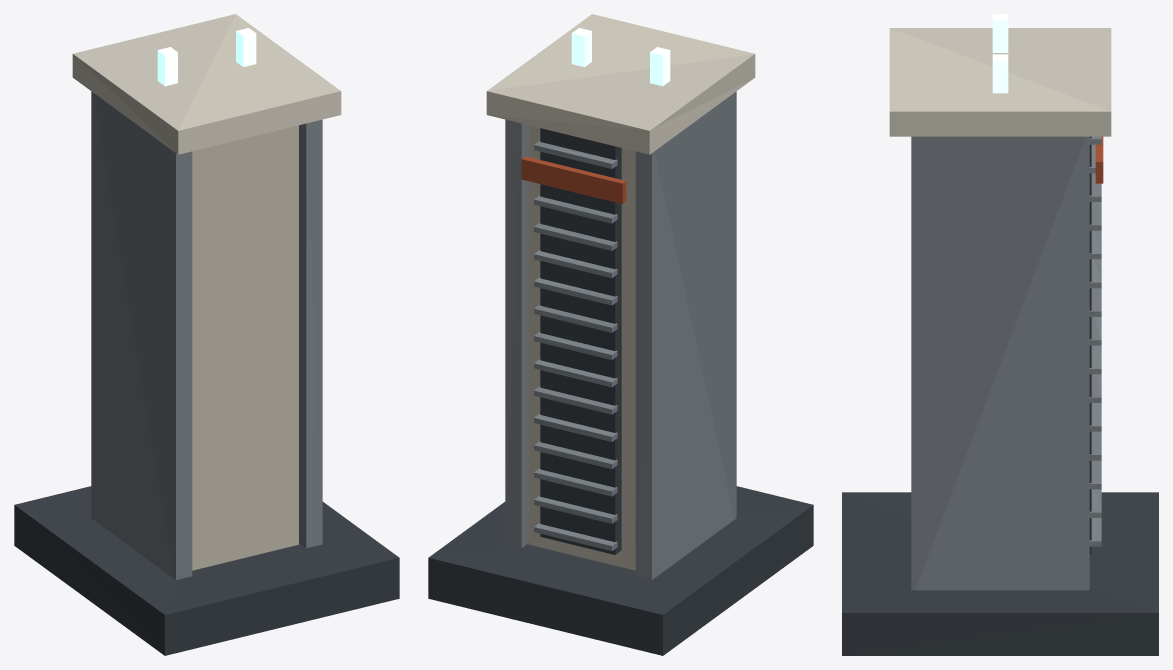
File: receiving-tower.glb
The picture shows the model from 3 angles, left to right: view 1: azimuth 30°, elevation 25°; view 2: azimuth 150°, elevation 25°; view 3: azimuth 270°, elevation 25°; orthographic projection. The views are drawn at different scales.
Parts seen in each view (by area): view 1: receiving-tower__metal, receiving-tower__ceramic, receiving-tower__graphite, receiving-tower__edge, receiving-tower__light; view 2: receiving-tower__metal, receiving-tower__graphite, receiving-tower__edge, receiving-tower__ceramic, receiving-tower__oxide, receiving-tower__light; view 3: receiving-tower__metal, receiving-tower__graphite, receiving-tower__edge, receiving-tower__light.
Boxes of the visible parts, <box> form: receiving-tower__metal: <box>91,91,322,579</box>; receiving-tower__ceramic: <box>192,125,298,570</box>; receiving-tower__graphite: <box>14,486,399,655</box>; receiving-tower__edge: <box>72,14,341,154</box>; receiving-tower__light: <box>157,28,256,86</box>; receiving-tower__metal: <box>505,91,736,579</box>; receiving-tower__graphite: <box>428,128,813,655</box>; receiving-tower__edge: <box>486,14,755,154</box>; receiving-tower__ceramic: <box>529,125,635,570</box>; receiving-tower__oxide: <box>521,156,626,203</box>; receiving-tower__light: <box>571,28,670,86</box>; receiving-tower__metal: <box>911,136,1101,590</box>; receiving-tower__graphite: <box>842,136,1158,655</box>; receiving-tower__edge: <box>889,28,1111,136</box>; receiving-tower__light: <box>992,14,1008,93</box>.
Size of the model in its own units: 72 by 156 by 80.
